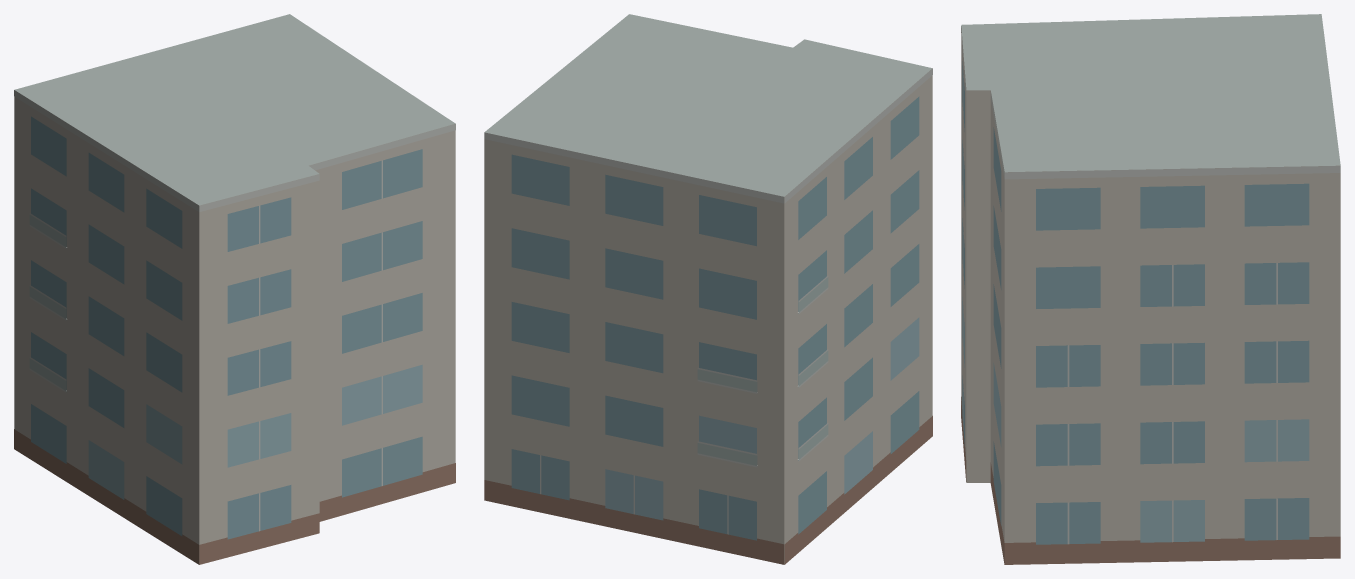
Rendered from survey-upis-32888569.glb.
The picture shows the model from 3 angles, left to right: view 1: azimuth 30°, elevation 25°; view 2: azimuth 150°, elevation 25°; view 3: azimuth 270°, elevation 25°; orthographic projection. The views are drawn at different scales.
Parts seen in each view (by area): view 1: survey-upis-32888569.tmp; view 2: survey-upis-32888569.tmp; view 3: survey-upis-32888569.tmp.
Part boxes in pixels (x1,y1,x2,y2): survey-upis-32888569.tmp: (14, 14, 455, 564); survey-upis-32888569.tmp: (484, 14, 932, 564); survey-upis-32888569.tmp: (961, 14, 1340, 564).
Size of the model in its own units: 11.41 by 13.2 by 11.57.
